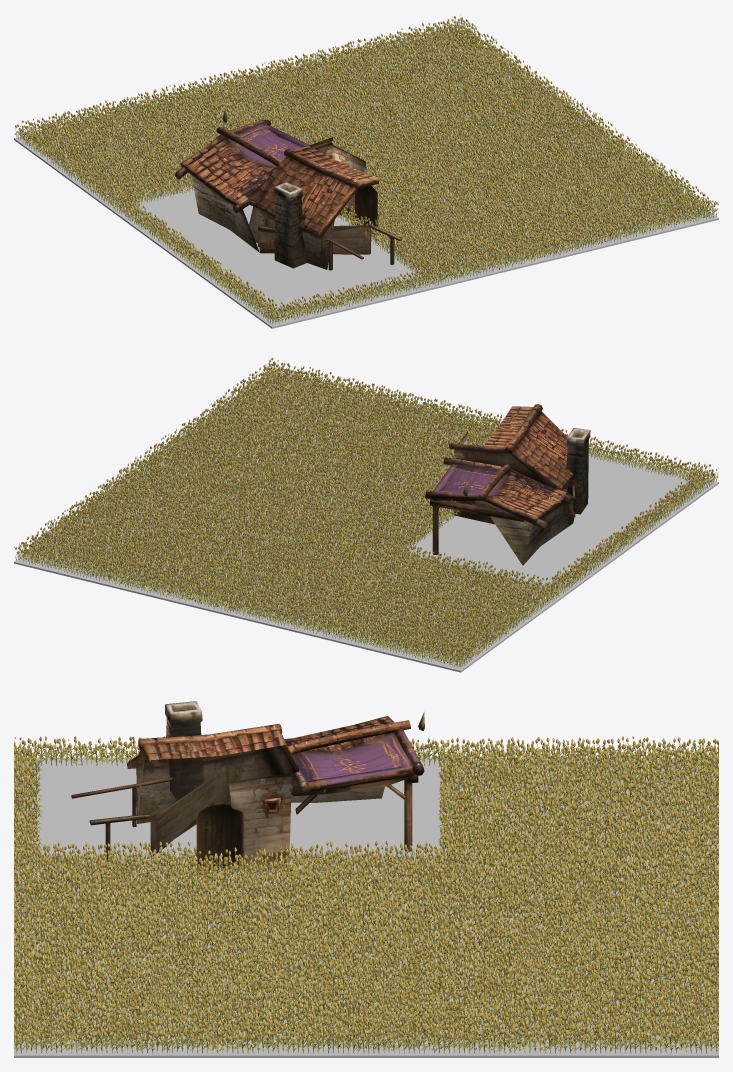
The model's file is Pasture14.fbx.
3 renders of one model, top to bottom at view 1: azimuth 30°, elevation 25°; view 2: azimuth 150°, elevation 25°; view 3: azimuth 270°, elevation 25°, orthographic. The views are drawn at different scales.
Parts seen in each view (by area): view 1: Pasture14Clean_crop_completion, Pasture14Clean_ground, Pasture14Clean_crop, Pasture14Clean_architecture; view 2: Pasture14Clean_crop_completion, Pasture14Clean_ground, Pasture14Clean_crop, Pasture14Clean_architecture; view 3: Pasture14Clean_crop_completion, Pasture14Clean_crop, Pasture14Clean_ground, Pasture14Clean_architecture.
Boxes of the visible parts, left/top/right/bottom form: Pasture14Clean_crop_completion: left=14, top=14, right=718, bottom=324; Pasture14Clean_ground: left=14, top=30, right=718, bottom=328; Pasture14Clean_crop: left=183, top=51, right=594, bottom=239; Pasture14Clean_architecture: left=175, top=108, right=401, bottom=270; Pasture14Clean_crop_completion: left=14, top=357, right=718, bottom=667; Pasture14Clean_ground: left=14, top=374, right=718, bottom=672; Pasture14Clean_crop: left=100, top=419, right=460, bottom=612; Pasture14Clean_architecture: left=425, top=404, right=590, bottom=565; Pasture14Clean_crop_completion: left=14, top=736, right=718, bottom=1053; Pasture14Clean_crop: left=182, top=829, right=652, bottom=1012; Pasture14Clean_ground: left=14, top=757, right=718, bottom=1057; Pasture14Clean_architecture: left=71, top=701, right=424, bottom=871.
Bounding box in the file's own units: 14 × 2.58 × 14.
